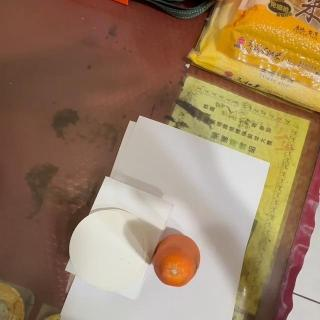carrot: (152, 233, 202, 287)
